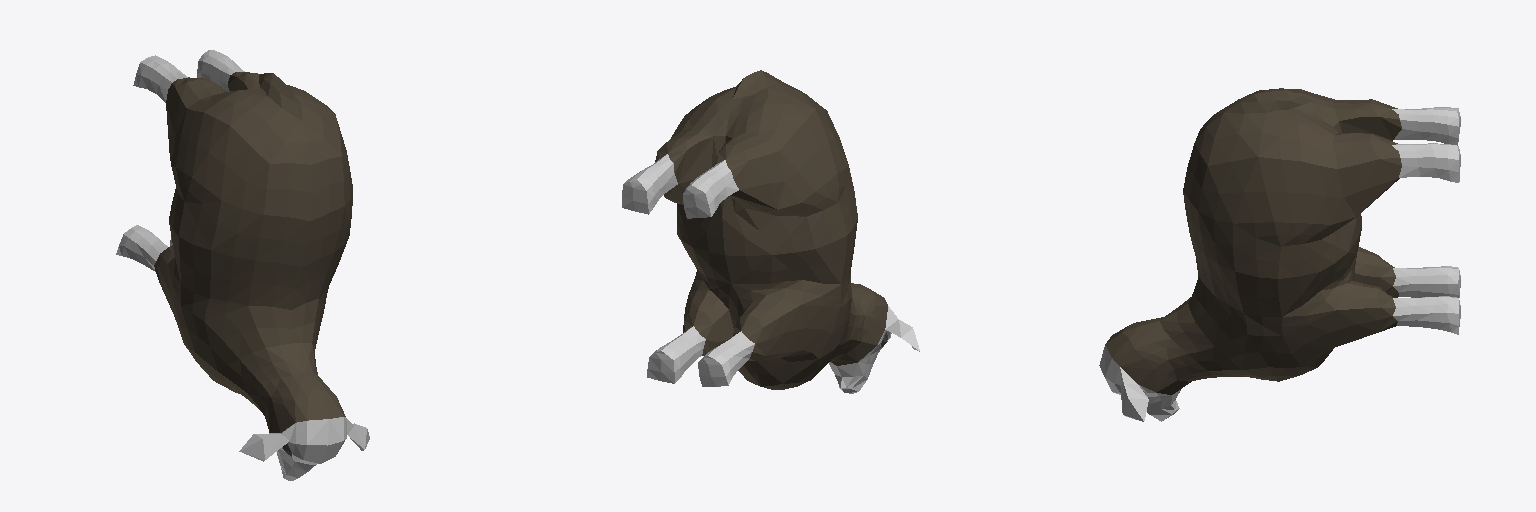
Rendered from sheep.obj.
3 renders of one model, left to right at view 1: azimuth 30°, elevation 25°; view 2: azimuth 150°, elevation 25°; view 3: azimuth 270°, elevation 25°, orthographic.
Visible parts, largest first — view 1: sheep_sheep___Color_001_, sheep_sheep_white; view 2: sheep_sheep___Color_001_, sheep_sheep_white; view 3: sheep_sheep___Color_001_, sheep_sheep_white.
Part boxes in pixels (bbox=[...]): sheep_sheep___Color_001_: bbox=[154, 72, 352, 432]; sheep_sheep_white: bbox=[116, 50, 369, 480]; sheep_sheep___Color_001_: bbox=[655, 70, 887, 389]; sheep_sheep_white: bbox=[622, 154, 919, 393]; sheep_sheep___Color_001_: bbox=[1105, 88, 1401, 394]; sheep_sheep_white: bbox=[1099, 107, 1460, 421].
Size of the model in its own units: 0.5372 by 1.07 by 0.9924.